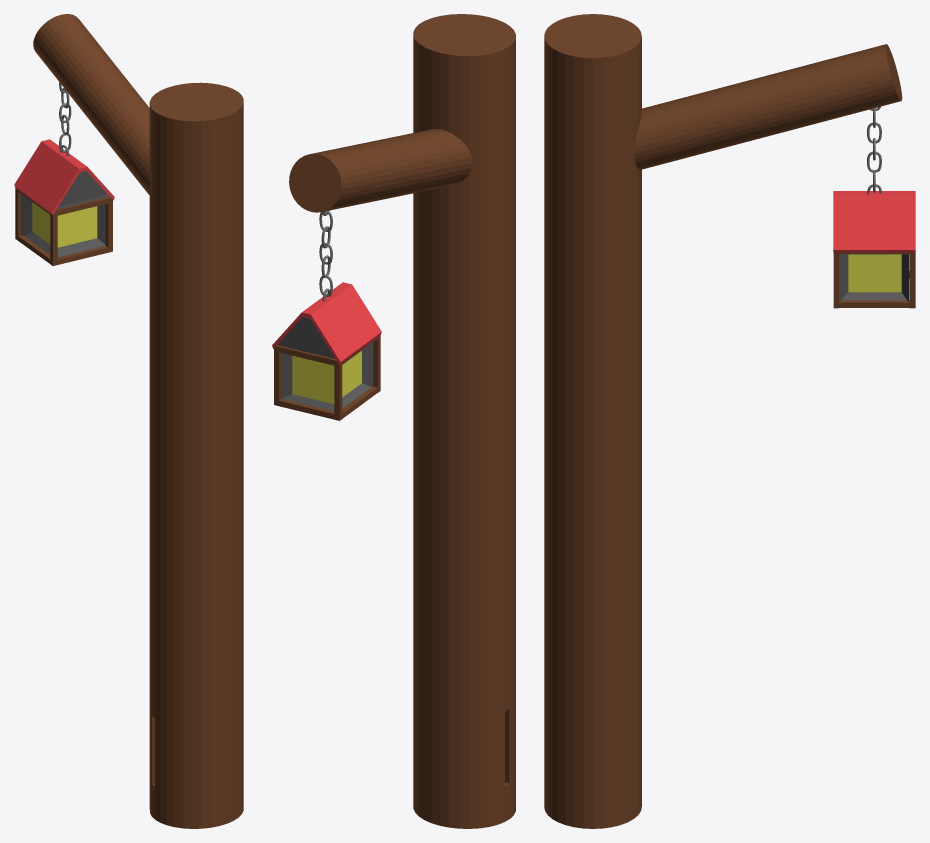
File: lantern.fbx
3 renders of one model, left to right at view 1: azimuth 30°, elevation 25°; view 2: azimuth 150°, elevation 25°; view 3: azimuth 270°, elevation 25°, orthographic. The views are drawn at different scales.
Parts seen in each view (by area): view 1: Cylinder, Cylinder.001, Plane.001, Plane.002, Cube; view 2: Cylinder, Cylinder.001, Plane.001, Plane.002, Cube; view 3: Cylinder, Cylinder.001, Plane.002, Plane.001, Cube.
Boxes of the visible parts, x1=… form: Cylinder: x1=149, y1=82, x2=243, y2=828; Cylinder.001: x1=33, y1=14, x2=149, y2=195; Plane.001: x1=21, y1=171, x2=109, y2=257; Plane.002: x1=14, y1=139, x2=114, y2=214; Cube: x1=15, y1=188, x2=112, y2=265; Cylinder: x1=413, y1=14, x2=515, y2=828; Cylinder.001: x1=289, y1=129, x2=472, y2=212; Plane.001: x1=278, y1=316, x2=373, y2=411; Plane.002: x1=272, y1=282, x2=381, y2=364; Cube: x1=274, y1=335, x2=380, y2=420; Cylinder: x1=544, y1=14, x2=641, y2=828; Cylinder.001: x1=634, y1=44, x2=902, y2=169; Plane.002: x1=833, y1=191, x2=915, y2=252; Plane.001: x1=839, y1=254, x2=909, y2=301; Cube: x1=833, y1=253, x2=915, y2=308.
Size of the model in its own units: 32.59 by 265 by 116.
